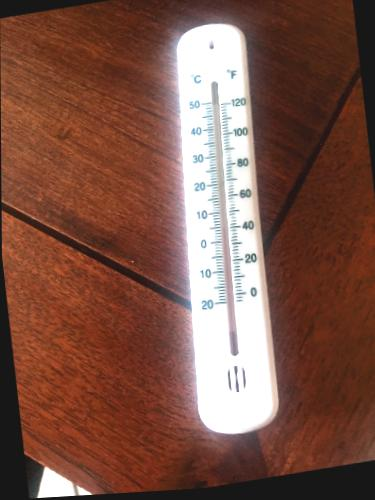thermo: (173, 21, 280, 431)
